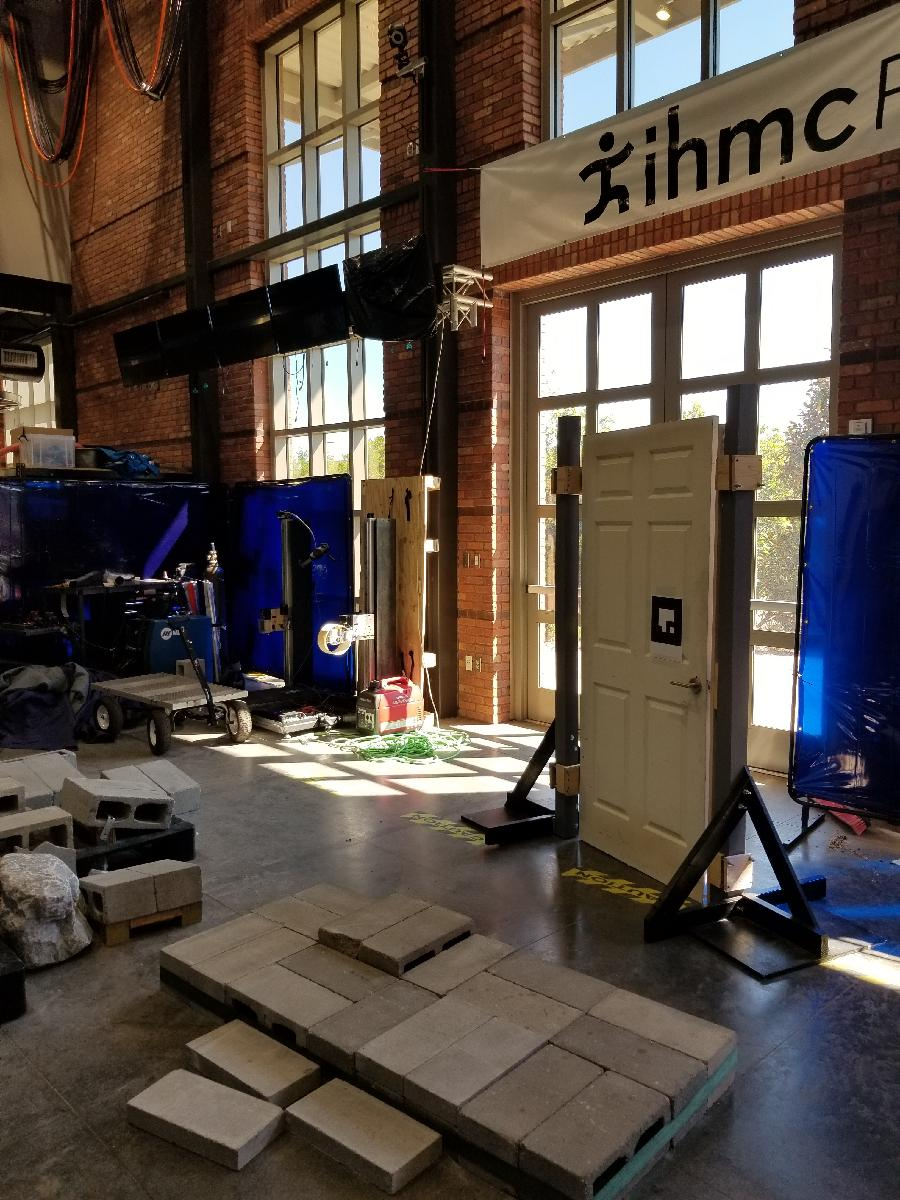door: (576, 414, 721, 912)
doorHandle: (665, 671, 707, 702)
